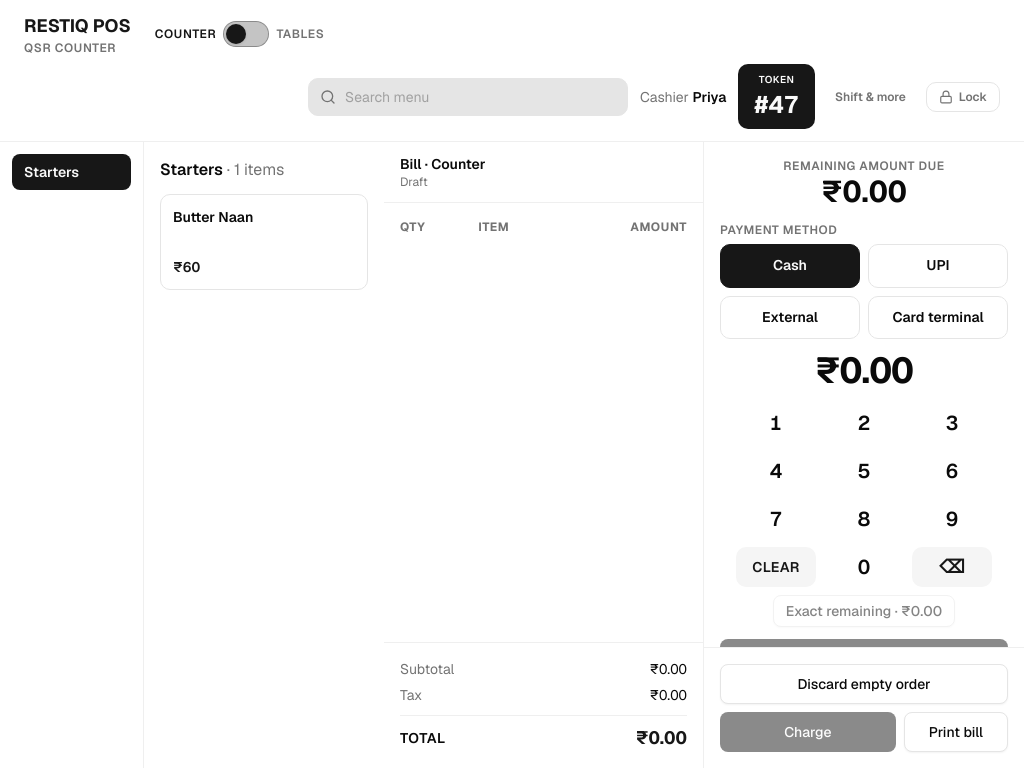
Scenario: CounterView - ring up and settle in one continuous flow › keeps the counter on screen while the bill refreshes after a tap, no loading flash (#269)
The image size is (1024, 768).
Check: the element with test id "bill-summary" is shown, box [384,142,704,767]
Step 1. Click the button with test id "item-tile-item-naan" → point(264, 242), box [160,194,368,290]
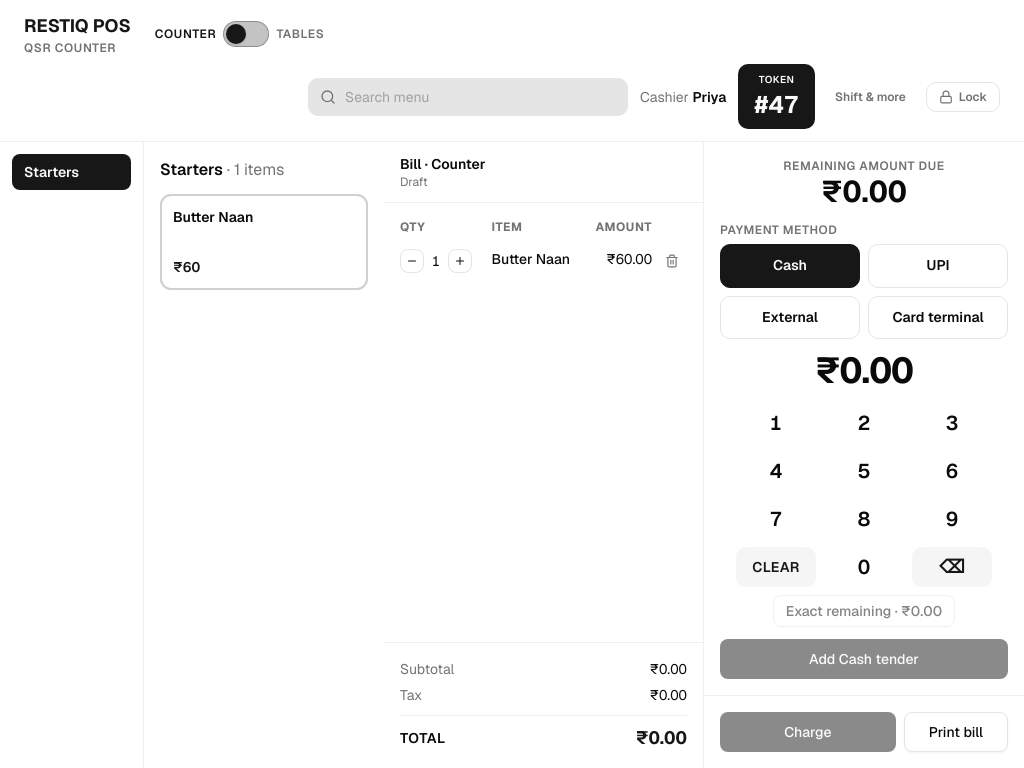
Check: the row with test id "bill-line-line-1" is shown, box [400,243,687,279]
